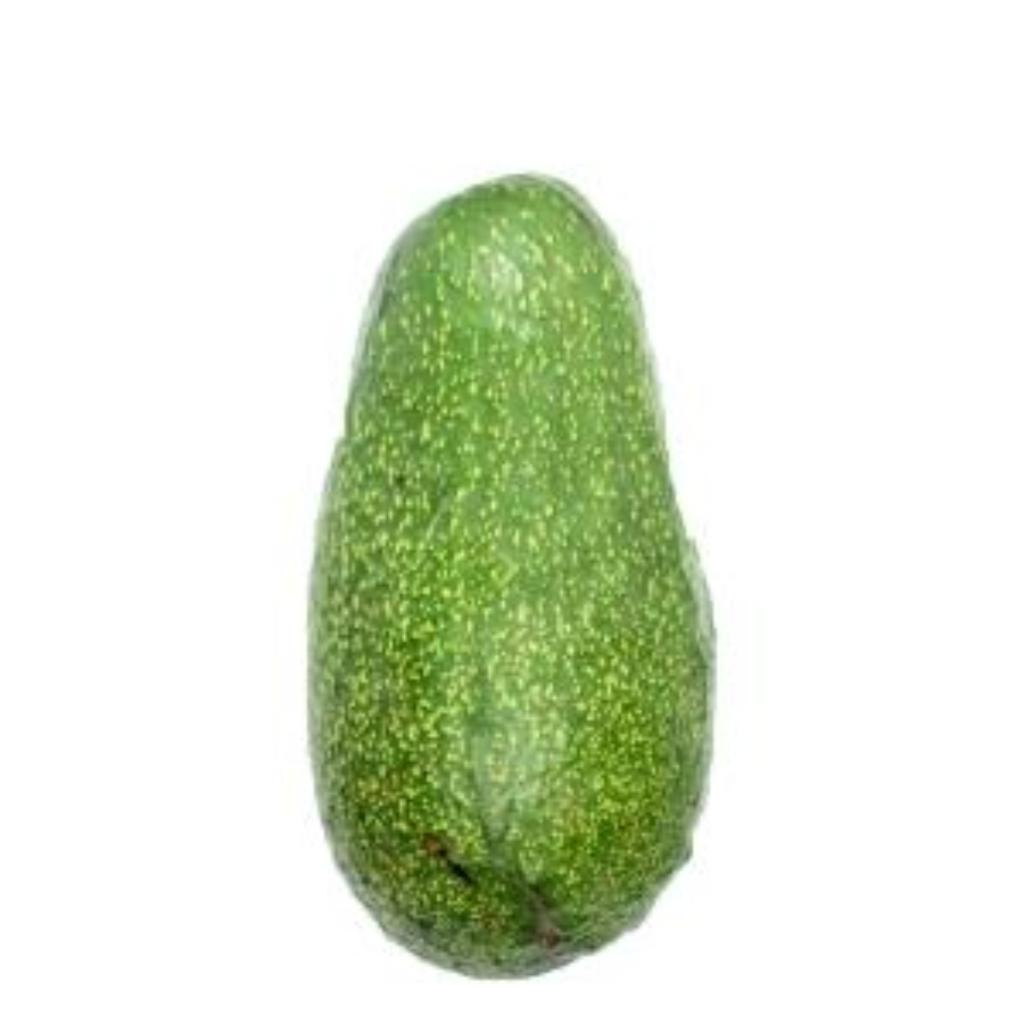cercospora_spot: (292, 156, 738, 978)
